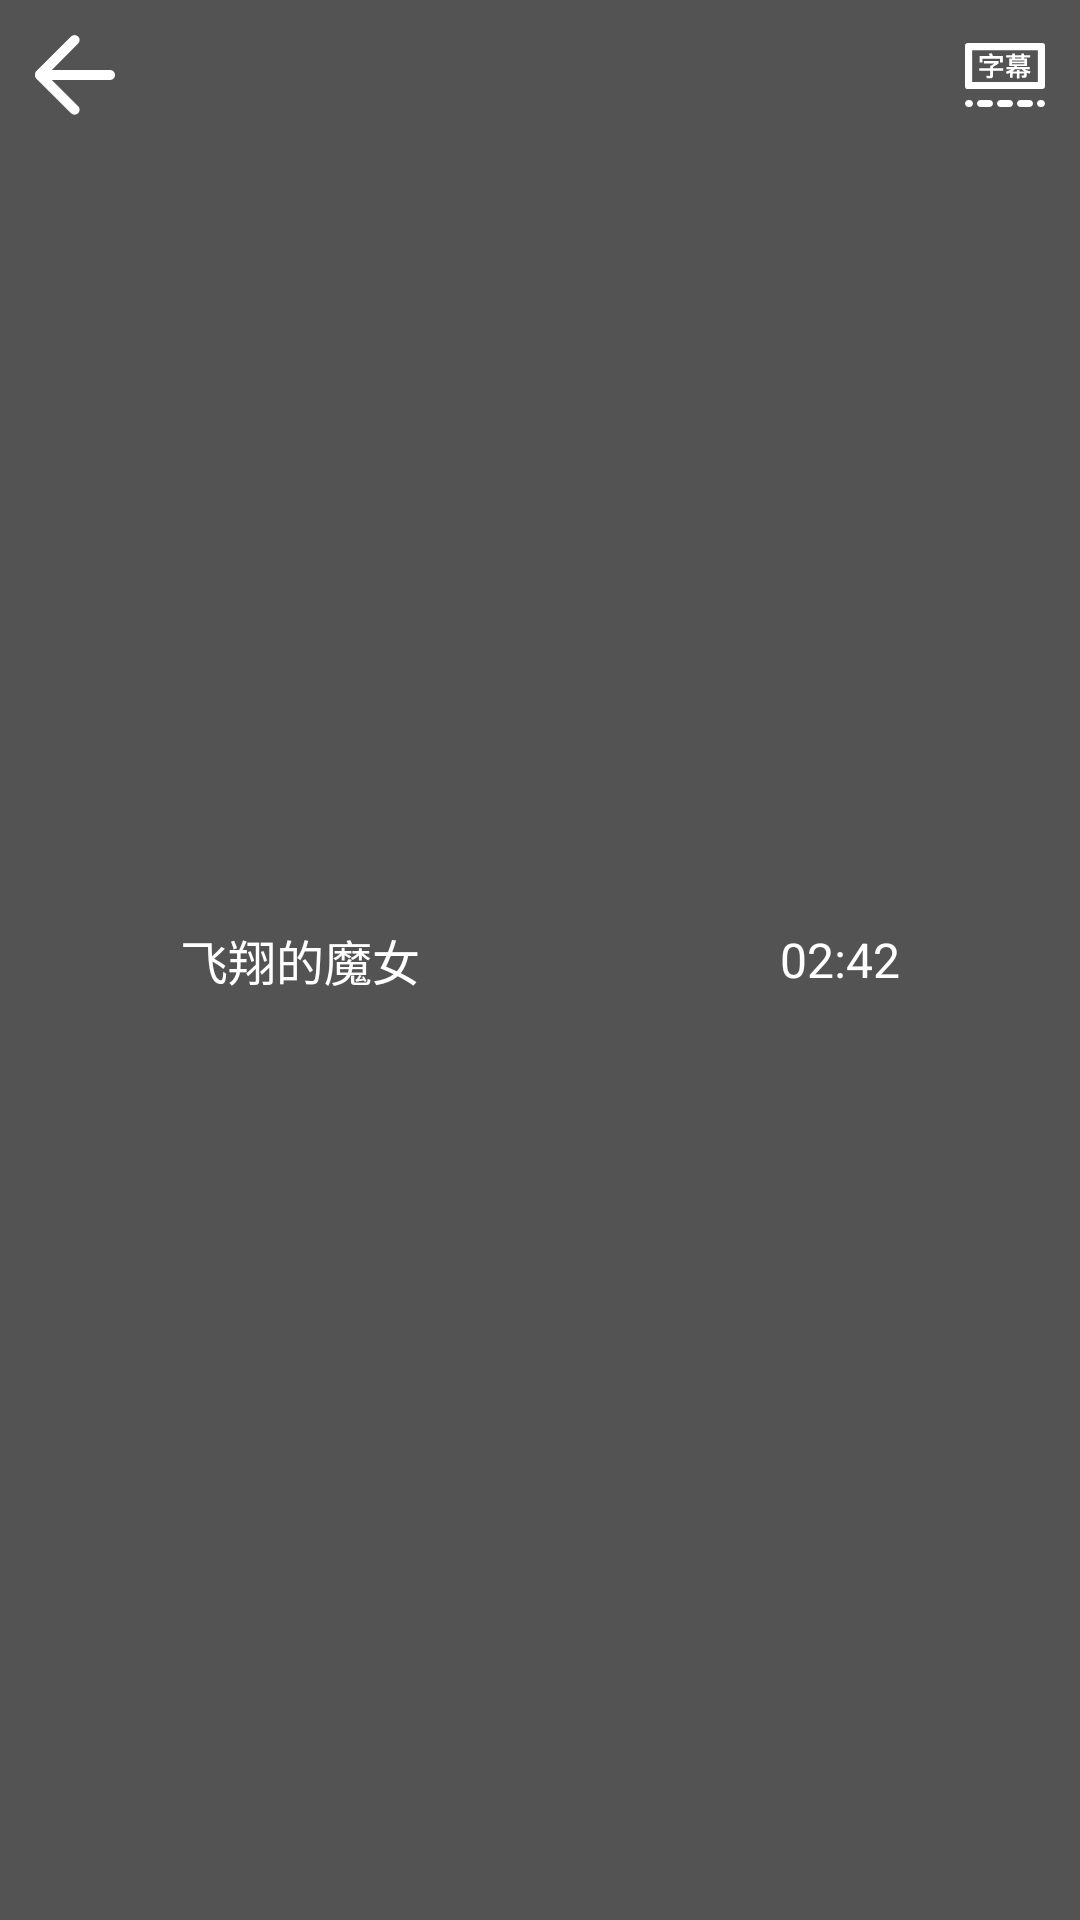

Icon click points for this 1080x1920 phone screenshot, format point (x, y):
back: point (75, 75)
